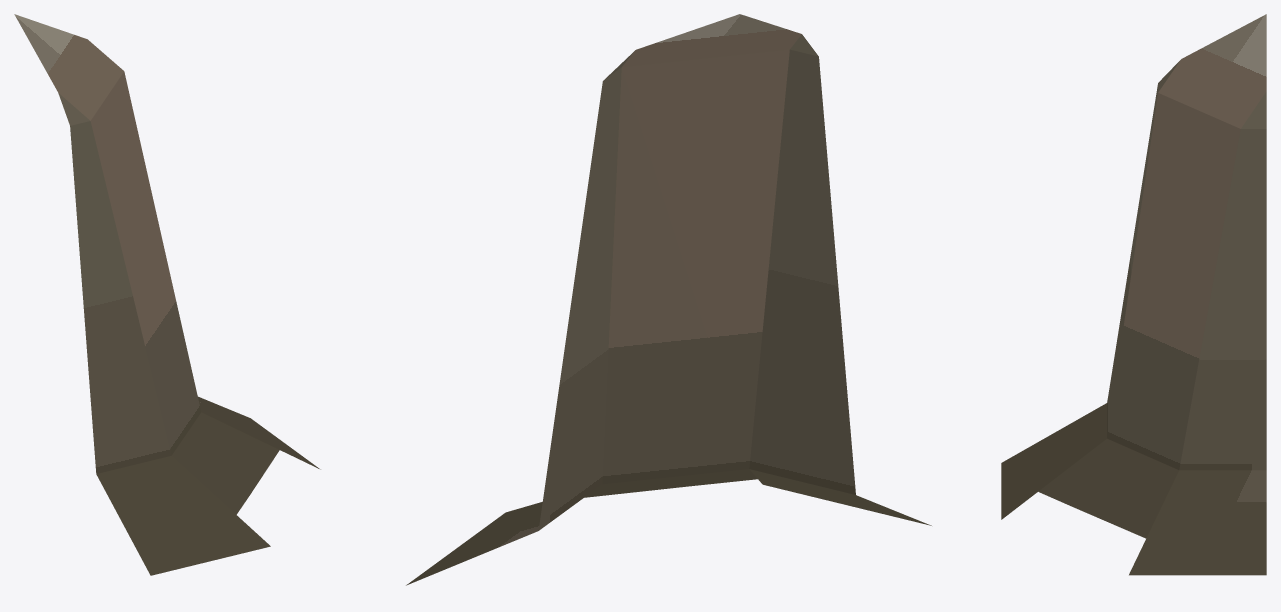
The picture shows the model from 3 angles, left to right: view 1: azimuth 30°, elevation 25°; view 2: azimuth 150°, elevation 25°; view 3: azimuth 270°, elevation 25°; orthographic projection. The views are drawn at different scales.
Size of the model in its own units: 0.293 by 0.5178 by 0.293.
1 material, 1 textured.
